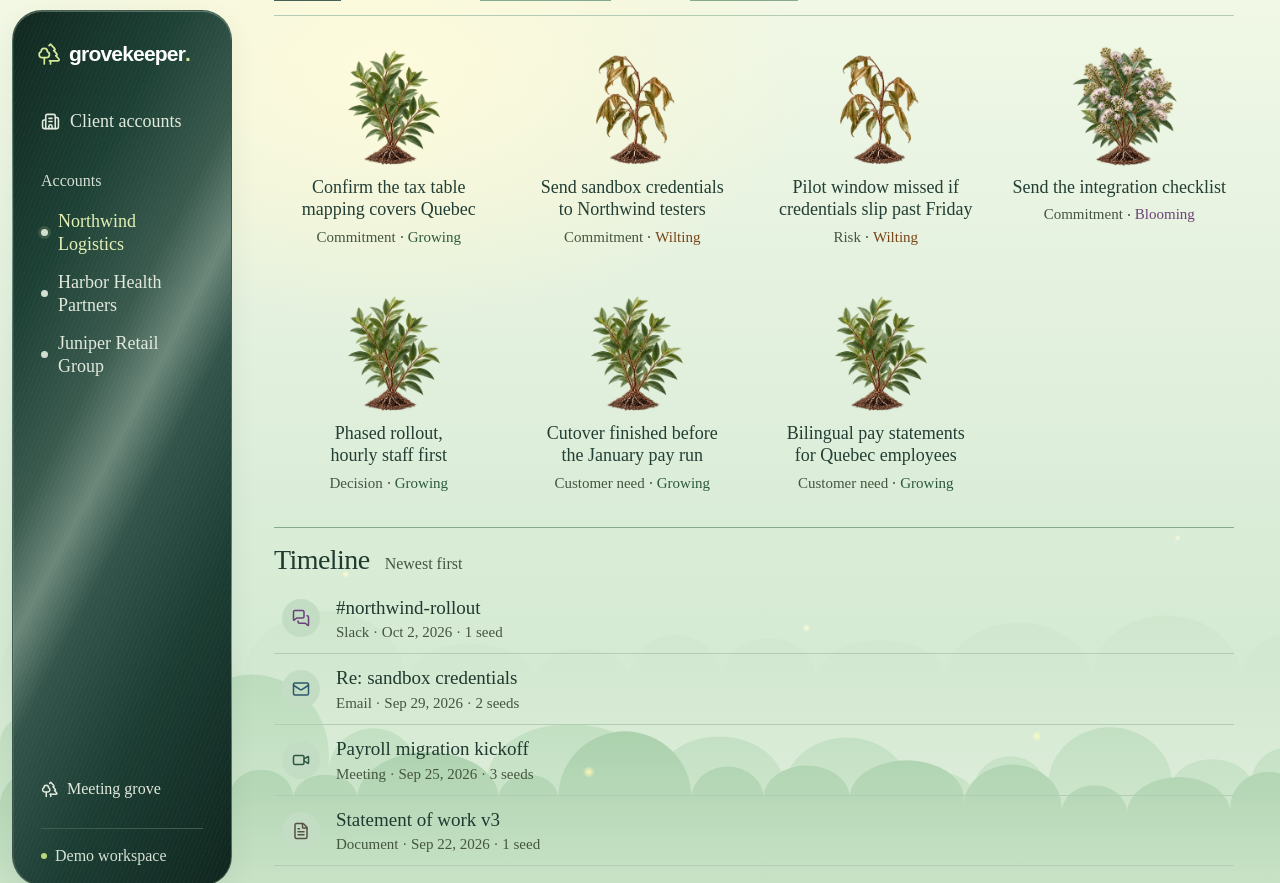
Test: account dashboard › reports a transcript that fails to load or was never saved
This screenshot has width=1280, height=883.
(page scrolled)
Click the button "Payroll migration kickoff Meeting · Sep 25, 2026 · 3 seeds": click(301, 760) [274,725,1234,796]
(page scrolled)
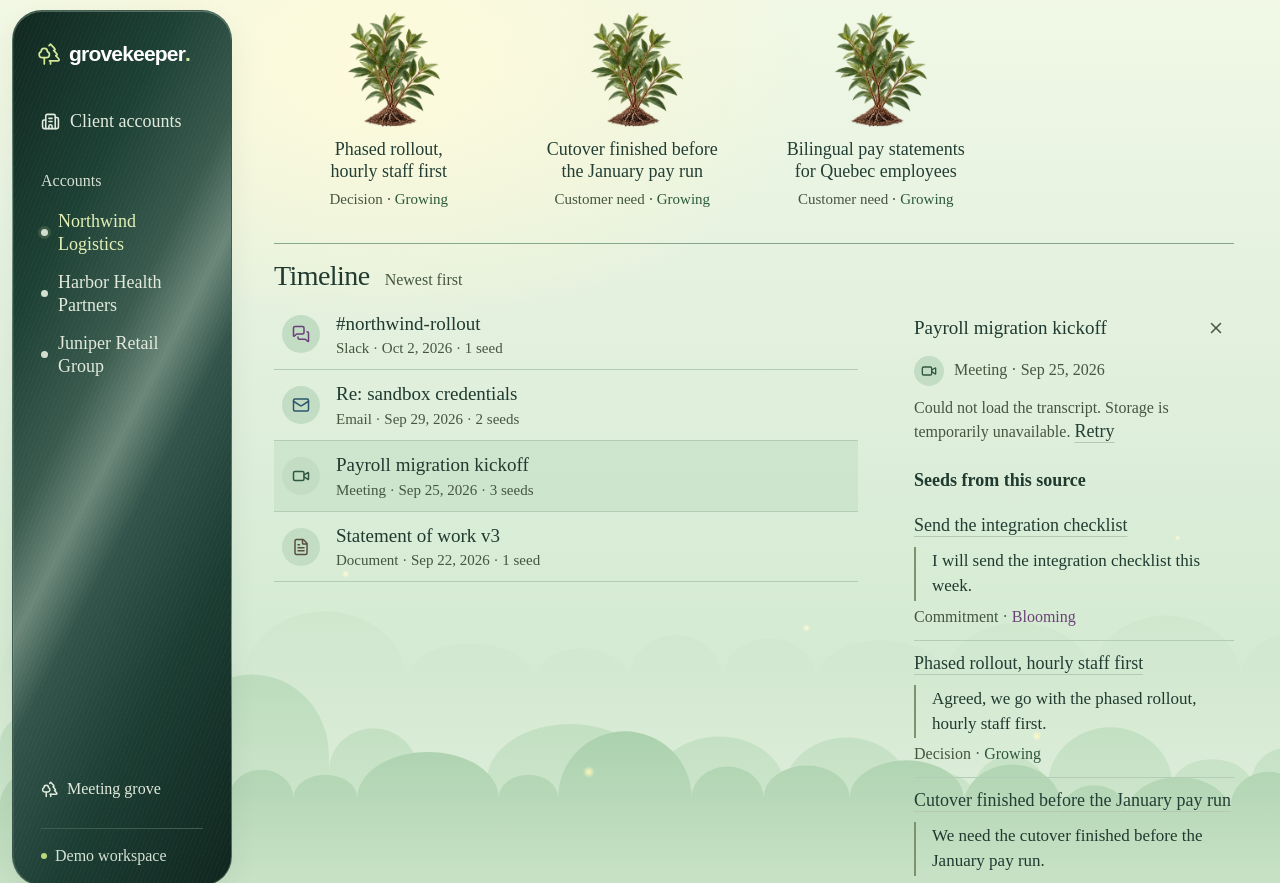
Expected: the message shows "Could not load the transcript. Storage is temporarily unavailable.", [914,399,1169,440]
Click the button "Retry": click(1094, 432) [1074,420,1114,444]
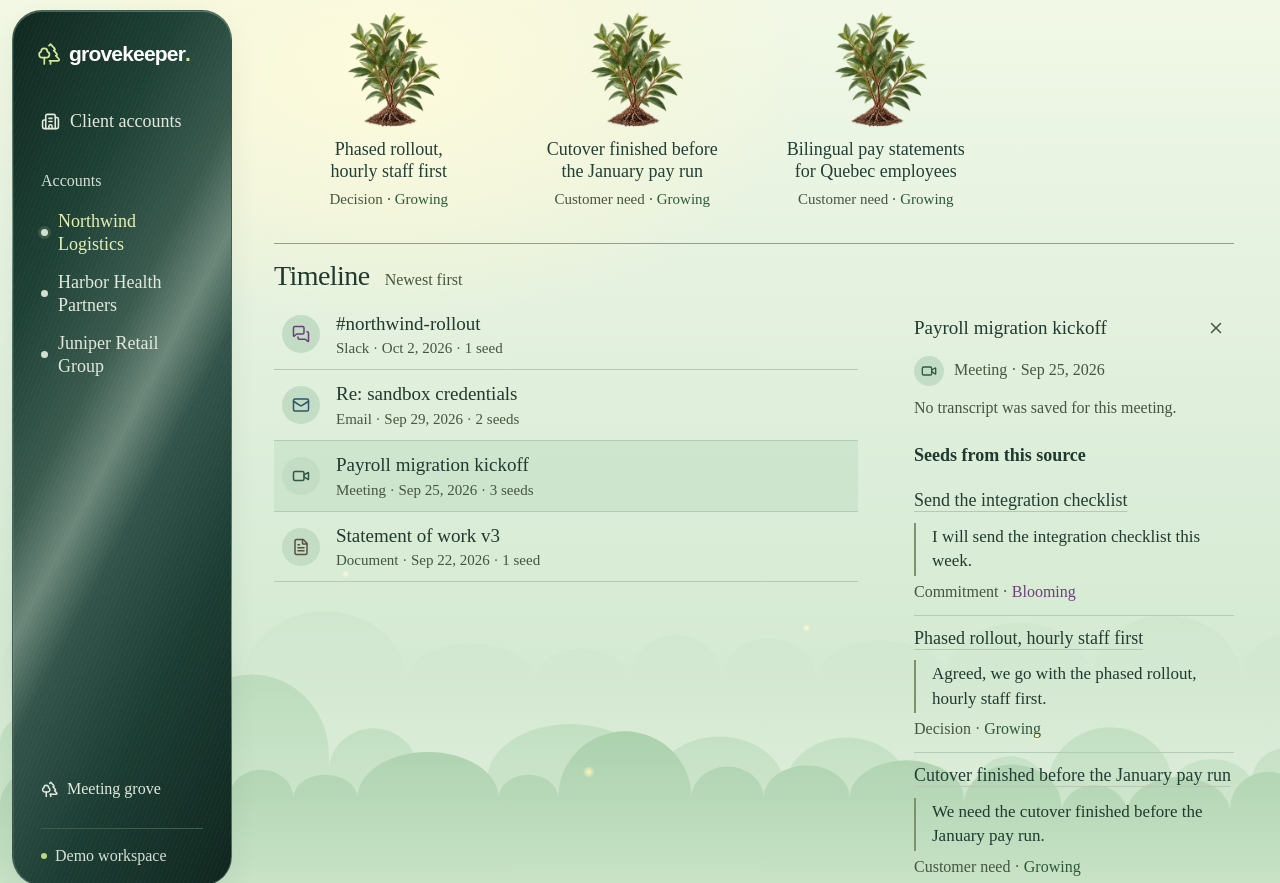
Expected: the text "No transcript was saved for this meeting." is shown, [914,399,1177,416]
